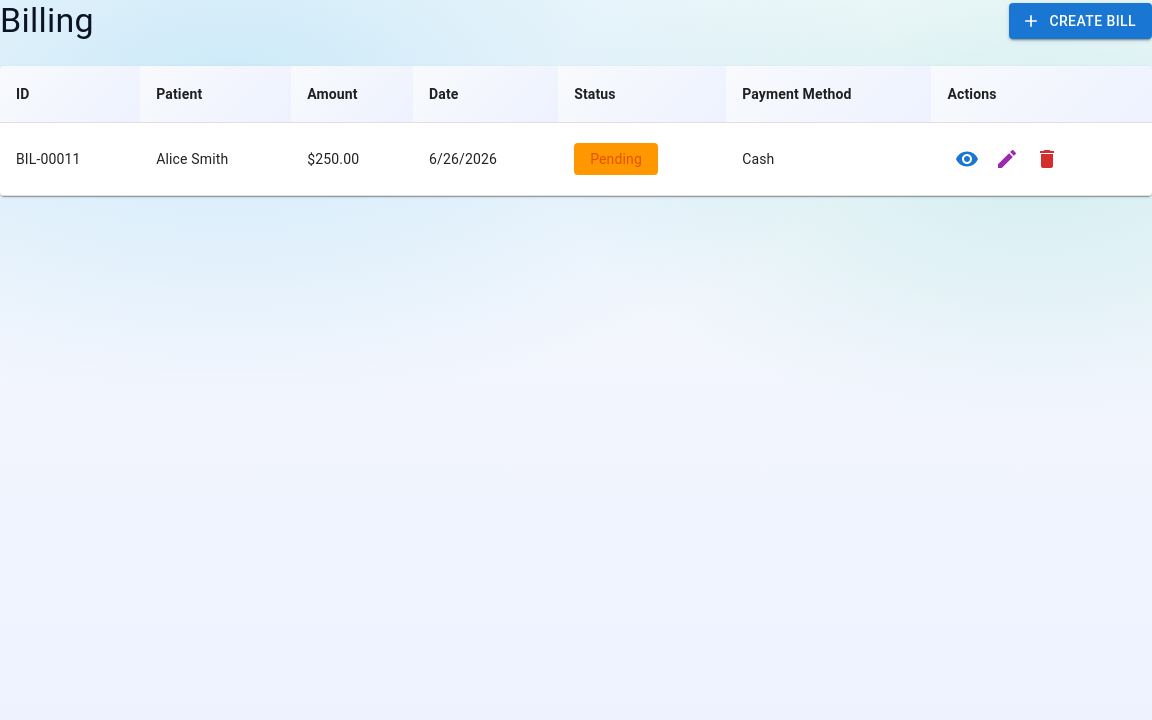
Test case: Billing details dialog › opens bill details when view icon is clicked
Expected: the text "BIL-00011" is shown, [0,122,140,196]
Step 1. Click the button named "view-bill-details" → (967, 159), box [947,139,987,179]
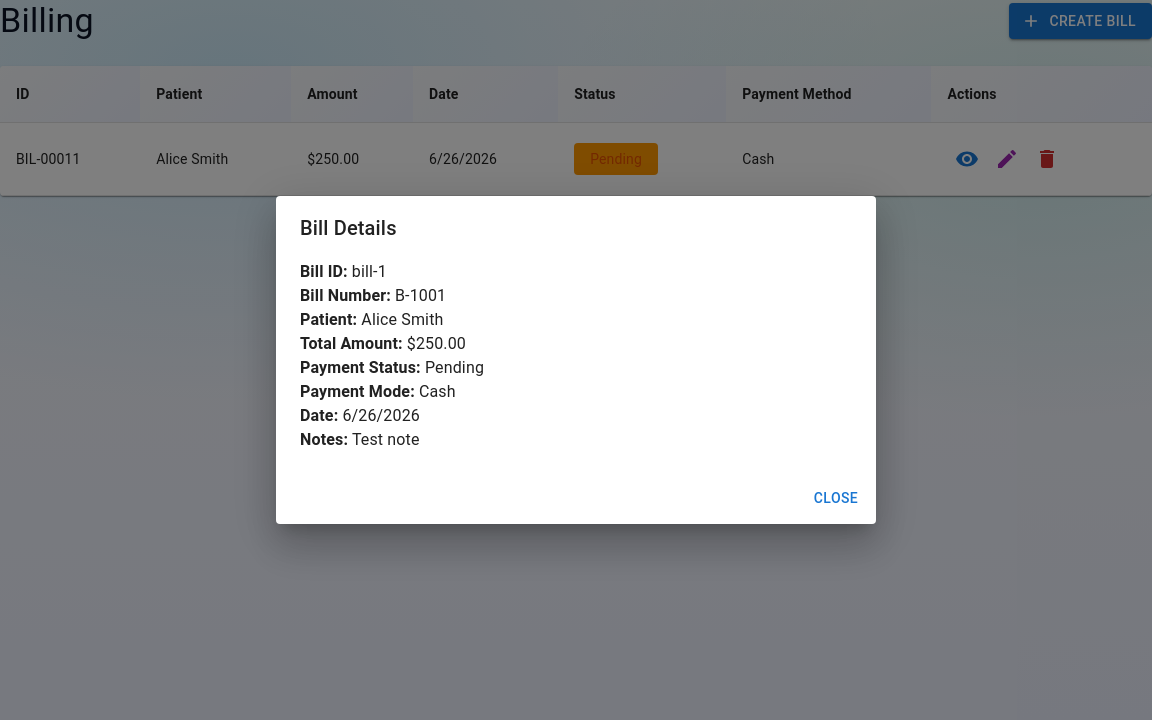
Result: the heading "Bill Details" is shown at [300,216,397,240]
Result: the text "Patient: Alice Smith" is shown at [300,310,444,329]
